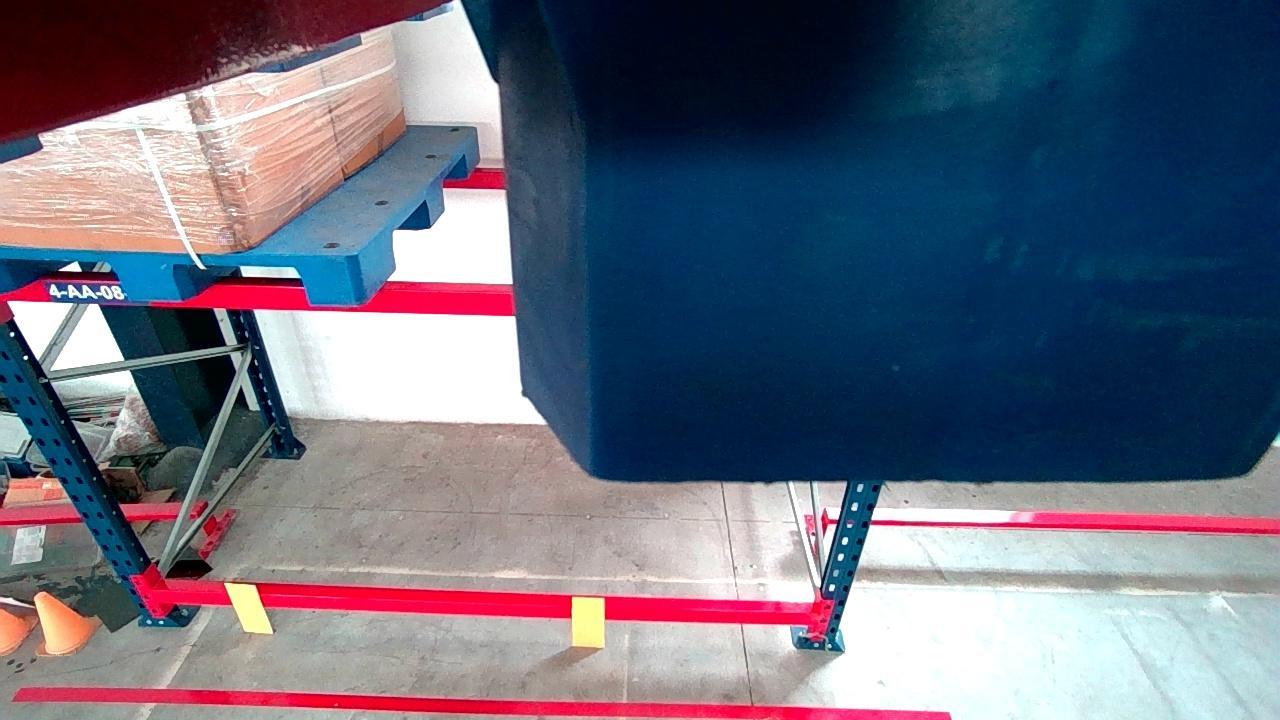h_rack: (150, 591, 809, 625), (5, 283, 512, 314)
orange_strip: (225, 586, 273, 631), (574, 597, 605, 646)
red_line: (15, 686, 952, 720)
small_pallet: (0, 251, 359, 304)
